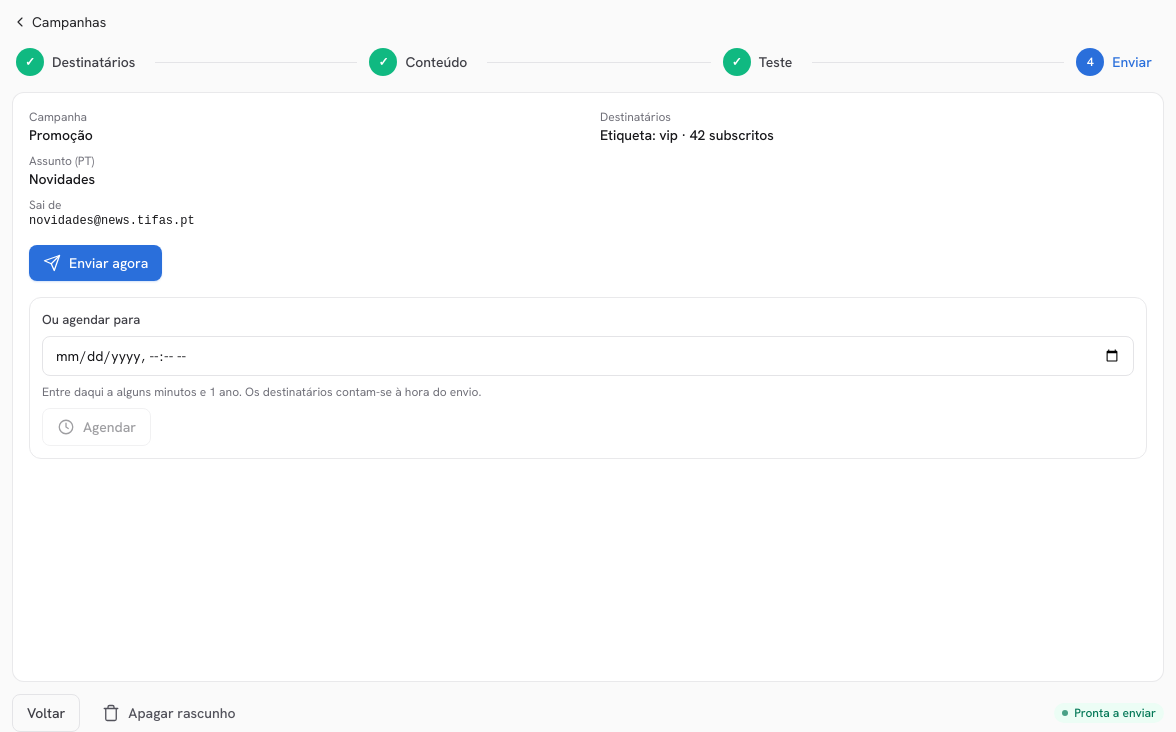
it: Nova campanha — passo 4, enviar ou agendar › erro da API (CAMPAIGN_INCOMPLETE) mostra o que falta
expect the text with test id "campaign-summary-audience" shows "42": met, box [690,126,774,144]
Click the button "Enviar agora" at x=96, y=263, box [29,245,162,281]
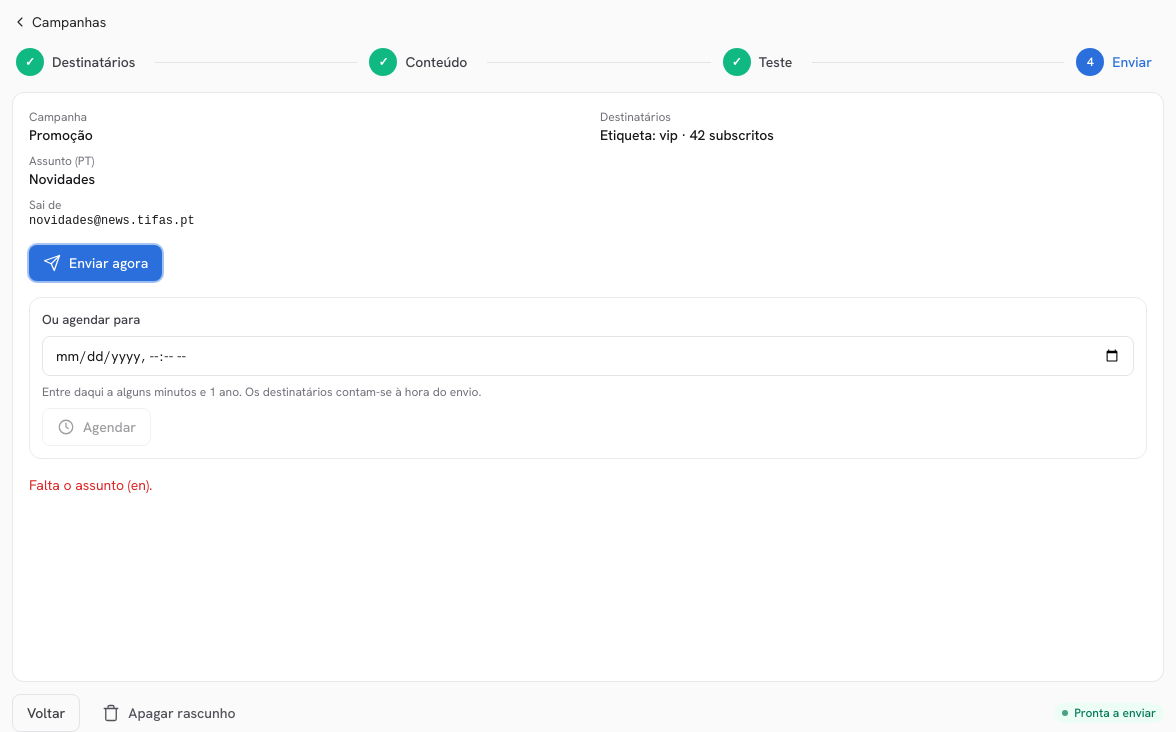
expect the message with test id "campaign-error" reads "Falta o assunto (en).": met, box [29,476,152,494]
